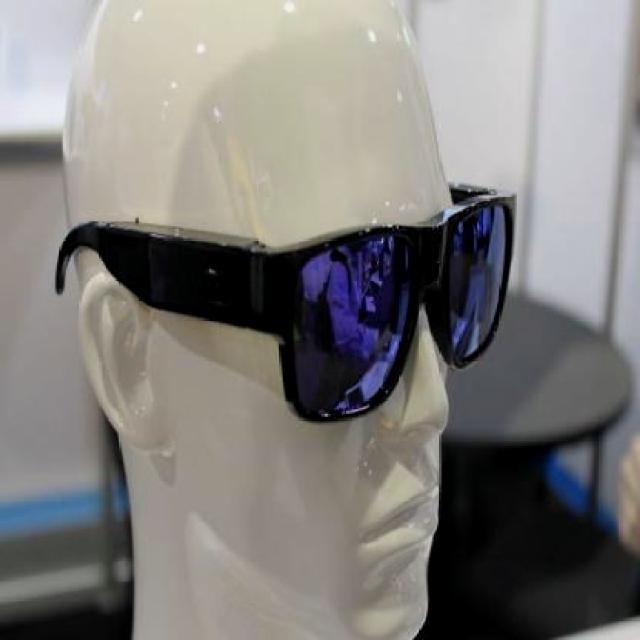face_nomask: (233, 198, 524, 594)
glasses: (52, 190, 518, 424)
